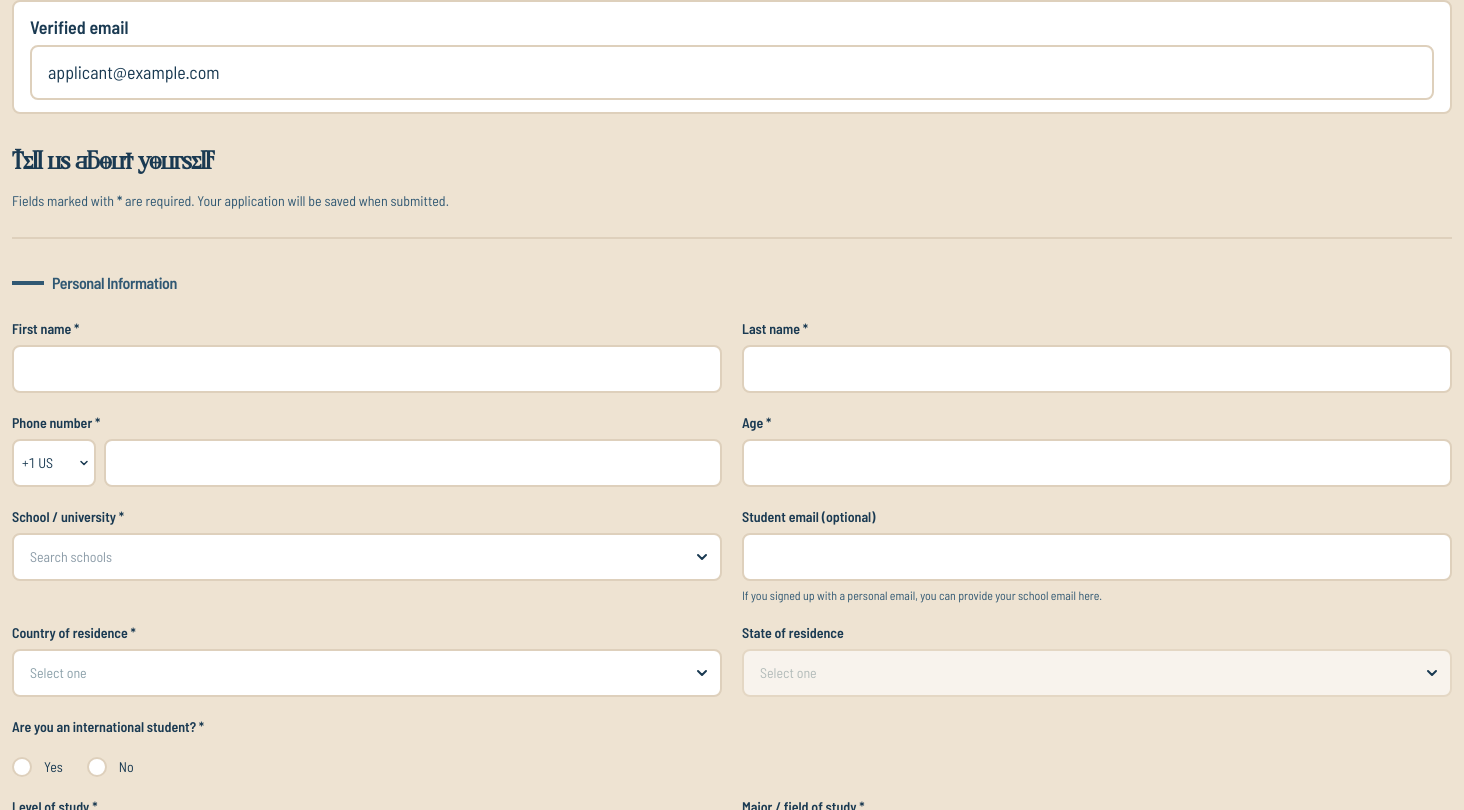
it: ApplicationForm › validates age against the 120 upper limit (120)
Type "120" into the number field labelled "Age *". click: (1097, 463)
box: 742,439 -> 1452,487
(page scrolled)
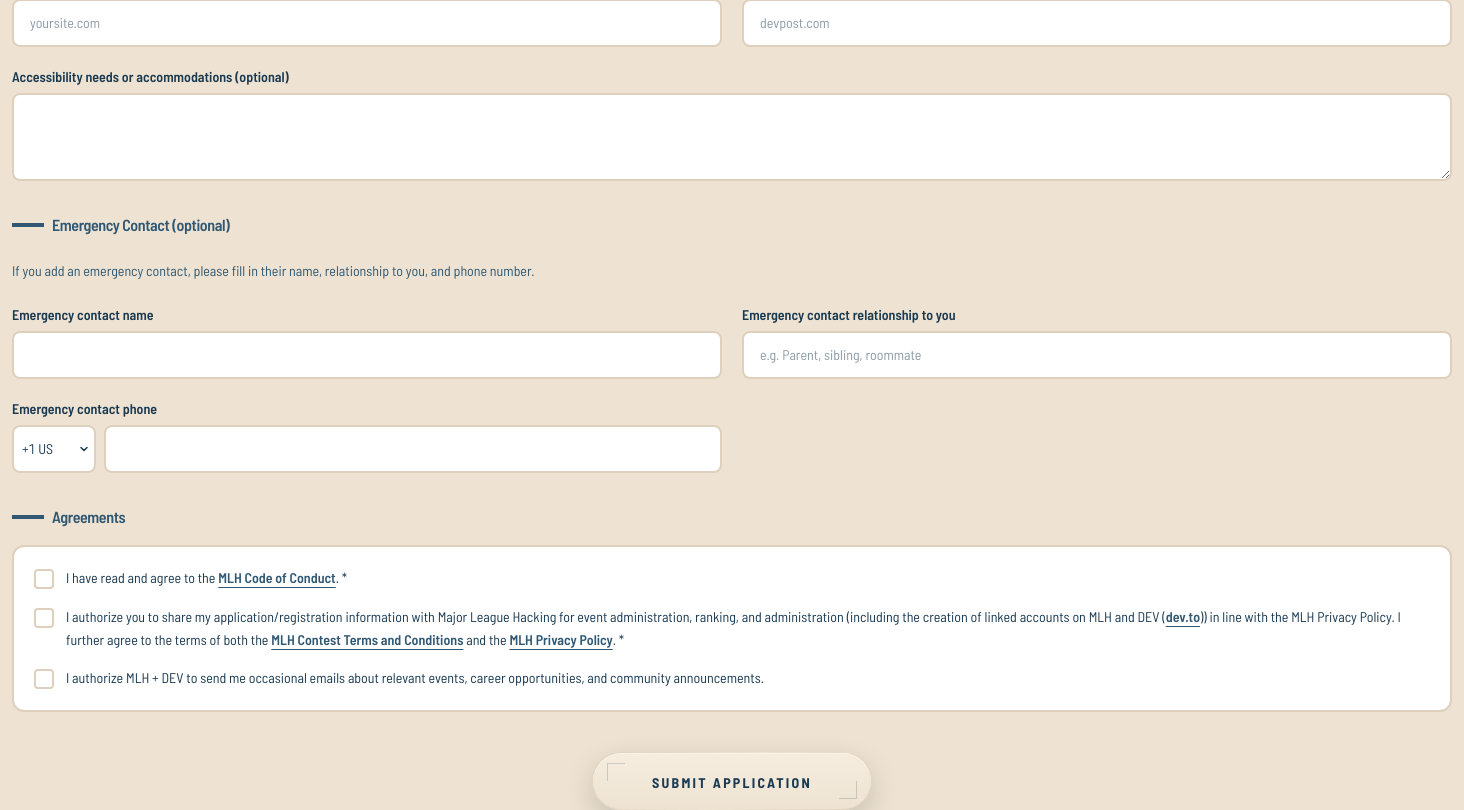
Click the button "Submit application". click: (732, 781)
box: 592,752 -> 872,809
(page scrolled)
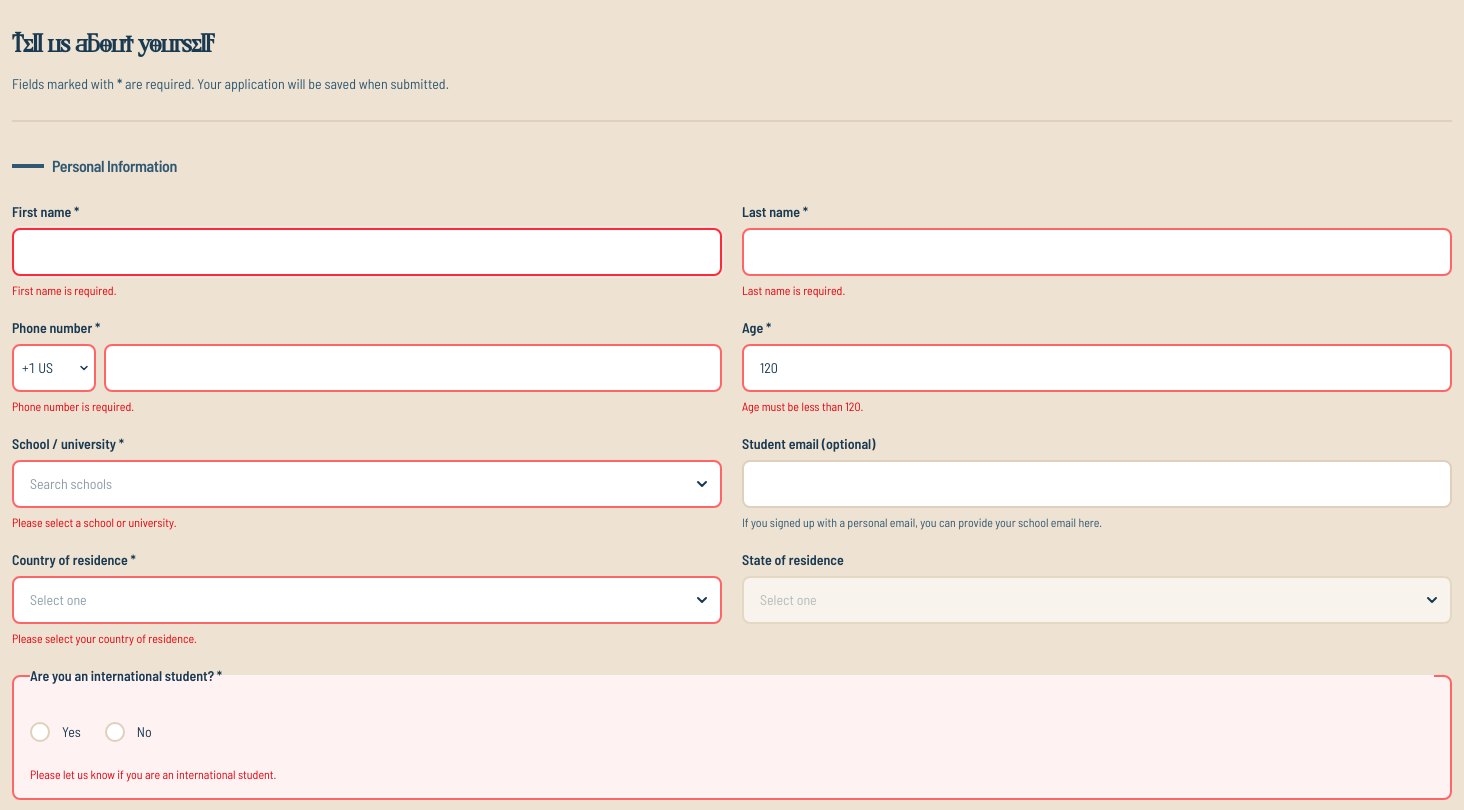
Result: the text "Age must be less than 120." is shown at 742,399 -> 863,413
